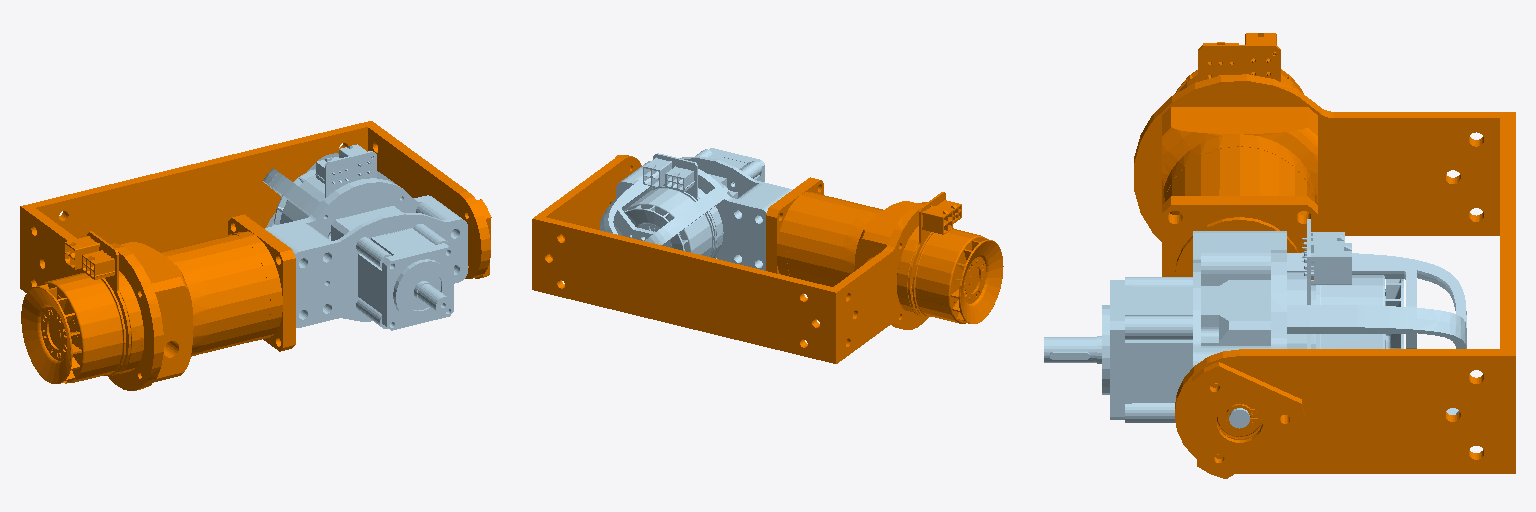
The robot description file, URDF, robot "leg_visual":
<?xml version="1.0" ?>
<!-- Generated using onshape-to-robot -->
<!-- Onshape https://cad.onshape.com/documents/15c938082851fbd4bacdce98/w/82abc59e7a8e49fa89bdf240/e/6eccd0fe0e79791f0e511e8b -->
<robot name="leg_visual">
  <!-- Link bodysectiona -->
  <link name="bodysectiona">
    <inertial>
      <origin xyz="0.0541647 -0.0878839 0.000234002" rpy="0 0 0"/>
      <mass value="2.333"/>
      <inertia ixx="0.00425967" ixy="-0.00247989" ixz="4.14274e-05" iyy="0.011561" iyz="1.17403e-05" izz="0.014638"/>
    </inertial>
    <!-- Part bodysectiona -->
    <visual>
      <origin xyz="0 0 0" rpy="0 -0 0"/>
      <geometry>
        <mesh filename="package://assets/bodysectiona.stl"/>
      </geometry>
      <material name="bodysectiona_material">
        <color rgba="0.972549 0.529412 0.00392157 1.0"/>
      </material>
    </visual>
    <collision>
      <origin xyz="0 0 0" rpy="0 -0 0"/>
      <geometry>
        <mesh filename="package://assets/bodysectiona.stl"/>
      </geometry>
    </collision>
  </link>
  <!-- Link coxamerger -->
  <link name="coxamerger">
    <inertial>
      <origin xyz="0.000391481 0.0100851 -0.0598052" rpy="0 0 0"/>
      <mass value="1.5"/>
      <inertia ixx="0.00233404" ixy="-1.25099e-05" ixz="2.28685e-06" iyy="0.00120555" iyz="5.55819e-05" izz="0.00180944"/>
    </inertial>
    <!-- Part coxamerger -->
    <visual>
      <origin xyz="0 0 -0.0635" rpy="3.14159 -0 0"/>
      <geometry>
        <mesh filename="package://assets/coxamerger.stl"/>
      </geometry>
      <material name="coxamerger_material">
        <color rgba="0.768627 0.886275 0.952941 1.0"/>
      </material>
    </visual>
    <collision>
      <origin xyz="0 0 -0.0635" rpy="3.14159 -0 0"/>
      <geometry>
        <mesh filename="package://assets/coxamerger.stl"/>
      </geometry>
    </collision>
  </link>
  <!-- Link femurmerger -->
  <link name="femurmerger">
    <inertial>
      <origin xyz="0.0750029 -0.00474222 0.0593829" rpy="0 0 0"/>
      <mass value="1.952"/>
      <inertia ixx="0.00147688" ixy="0.0015025" ixz="-0.000685788" iyy="0.0275279" iyz="4.34335e-05" izz="0.0271576"/>
    </inertial>
    <!-- Part femurmerger -->
    <visual>
      <origin xyz="1.38778e-16 1.05291e-17 0.064" rpy="3.14159 -6.86089e-33 1.54074e-32"/>
      <geometry>
        <mesh filename="package://assets/femurmerger.stl"/>
      </geometry>
      <material name="femurmerger_material">
        <color rgba="0.917647 0.917647 0.917647 1.0"/>
      </material>
    </visual>
    <collision>
      <origin xyz="1.38778e-16 1.05291e-17 0.064" rpy="3.14159 -6.86089e-33 1.54074e-32"/>
      <geometry>
        <mesh filename="package://assets/femurmerger.stl"/>
      </geometry>
    </collision>
  </link>
  <!-- Link tibiamerger -->
  <link name="tibiamerger">
    <inertial>
      <origin xyz="0.201087 0.0069932 -4.84705e-05" rpy="0 0 0"/>
      <mass value="0.219992"/>
      <inertia ixx="5.27818e-05" ixy="-0.00010343" ixz="-1.28273e-08" iyy="0.0053374" iyz="2.83936e-08" izz="0.00534035"/>
    </inertial>
    <!-- Part tibiamerger -->
    <visual>
      <origin xyz="1.38778e-17 0 0" rpy="3.14159 -1.93025e-30 -1.5708"/>
      <geometry>
        <mesh filename="package://assets/tibiamerger.stl"/>
      </geometry>
      <material name="tibiamerger_material">
        <color rgba="0.231373 0.380392 0.705882 1.0"/>
      </material>
    </visual>
    <collision>
      <origin xyz="1.38778e-17 0 0" rpy="3.14159 -1.93025e-30 -1.5708"/>
      <geometry>
        <mesh filename="package://assets/tibiamerger.stl"/>
      </geometry>
    </collision>
  </link>
  <!-- Joint from femurmerger to tibiamerger -->
  <joint name="j2" type="revolute">
    <origin xyz="0.370594 1.67737e-11 0.064" rpy="1.40585e-14 6.92149e-14 1.5708"/>
    <parent link="femurmerger"/>
    <child link="tibiamerger"/>
    <axis xyz="0 0 1"/>
    <limit effort="10" velocity="10" lower="-3.141592653589793" upper="3.141592653589793"/>
  </joint>
  <!-- Joint from coxamerger to femurmerger -->
  <joint name="j1" type="revolute">
    <origin xyz="6.55547e-15 -0.055 -0.0635" rpy="1.5708 -1.5708 0"/>
    <parent link="coxamerger"/>
    <child link="femurmerger"/>
    <axis xyz="0 0 1"/>
    <limit effort="10" velocity="10" lower="-3.141592653589793" upper="3.141592653589793"/>
  </joint>
  <!-- Joint from bodysectiona to coxamerger -->
  <joint name="j0" type="revolute">
    <origin xyz="0.0996 -0.106 -6.89726e-15" rpy="-1.45717e-16 -1.5708 0"/>
    <parent link="bodysectiona"/>
    <child link="coxamerger"/>
    <axis xyz="0 0 1"/>
    <limit effort="10" velocity="10" lower="-3.141592653589793" upper="3.141592653589793"/>
  </joint>
</robot>

--- Facts derived from the render (not from the file) ---
The picture shows the robot from 3 angles, left to right: view 1: azimuth 30°, elevation 25°; view 2: azimuth 150°, elevation 25°; view 3: azimuth 270°, elevation 25°; orthographic projection.
Robot: leg_visual — 4 links, 3 joints (3 revolute); root link bodysectiona; default pose: all joints at 0.
Links seen in each view (by area): view 1: bodysectiona, coxamerger; view 2: bodysectiona, coxamerger; view 3: bodysectiona, coxamerger.
Boxes of the visible links, x1,y1,x2,y2 form: bodysectiona: [20, 121, 491, 390]; coxamerger: [263, 144, 467, 330]; bodysectiona: [532, 155, 1003, 363]; coxamerger: [600, 148, 791, 270]; bodysectiona: [1134, 33, 1515, 478]; coxamerger: [1044, 219, 1466, 428].
Size in the robot's own frame: 0.2712 by 0.181 by 0.0899 metres.
Meshes: 4 distinct files referenced, 2 mesh visuals loaded (2 binary STL); not drawn: 2 (reference not matched to a file when rendering).
